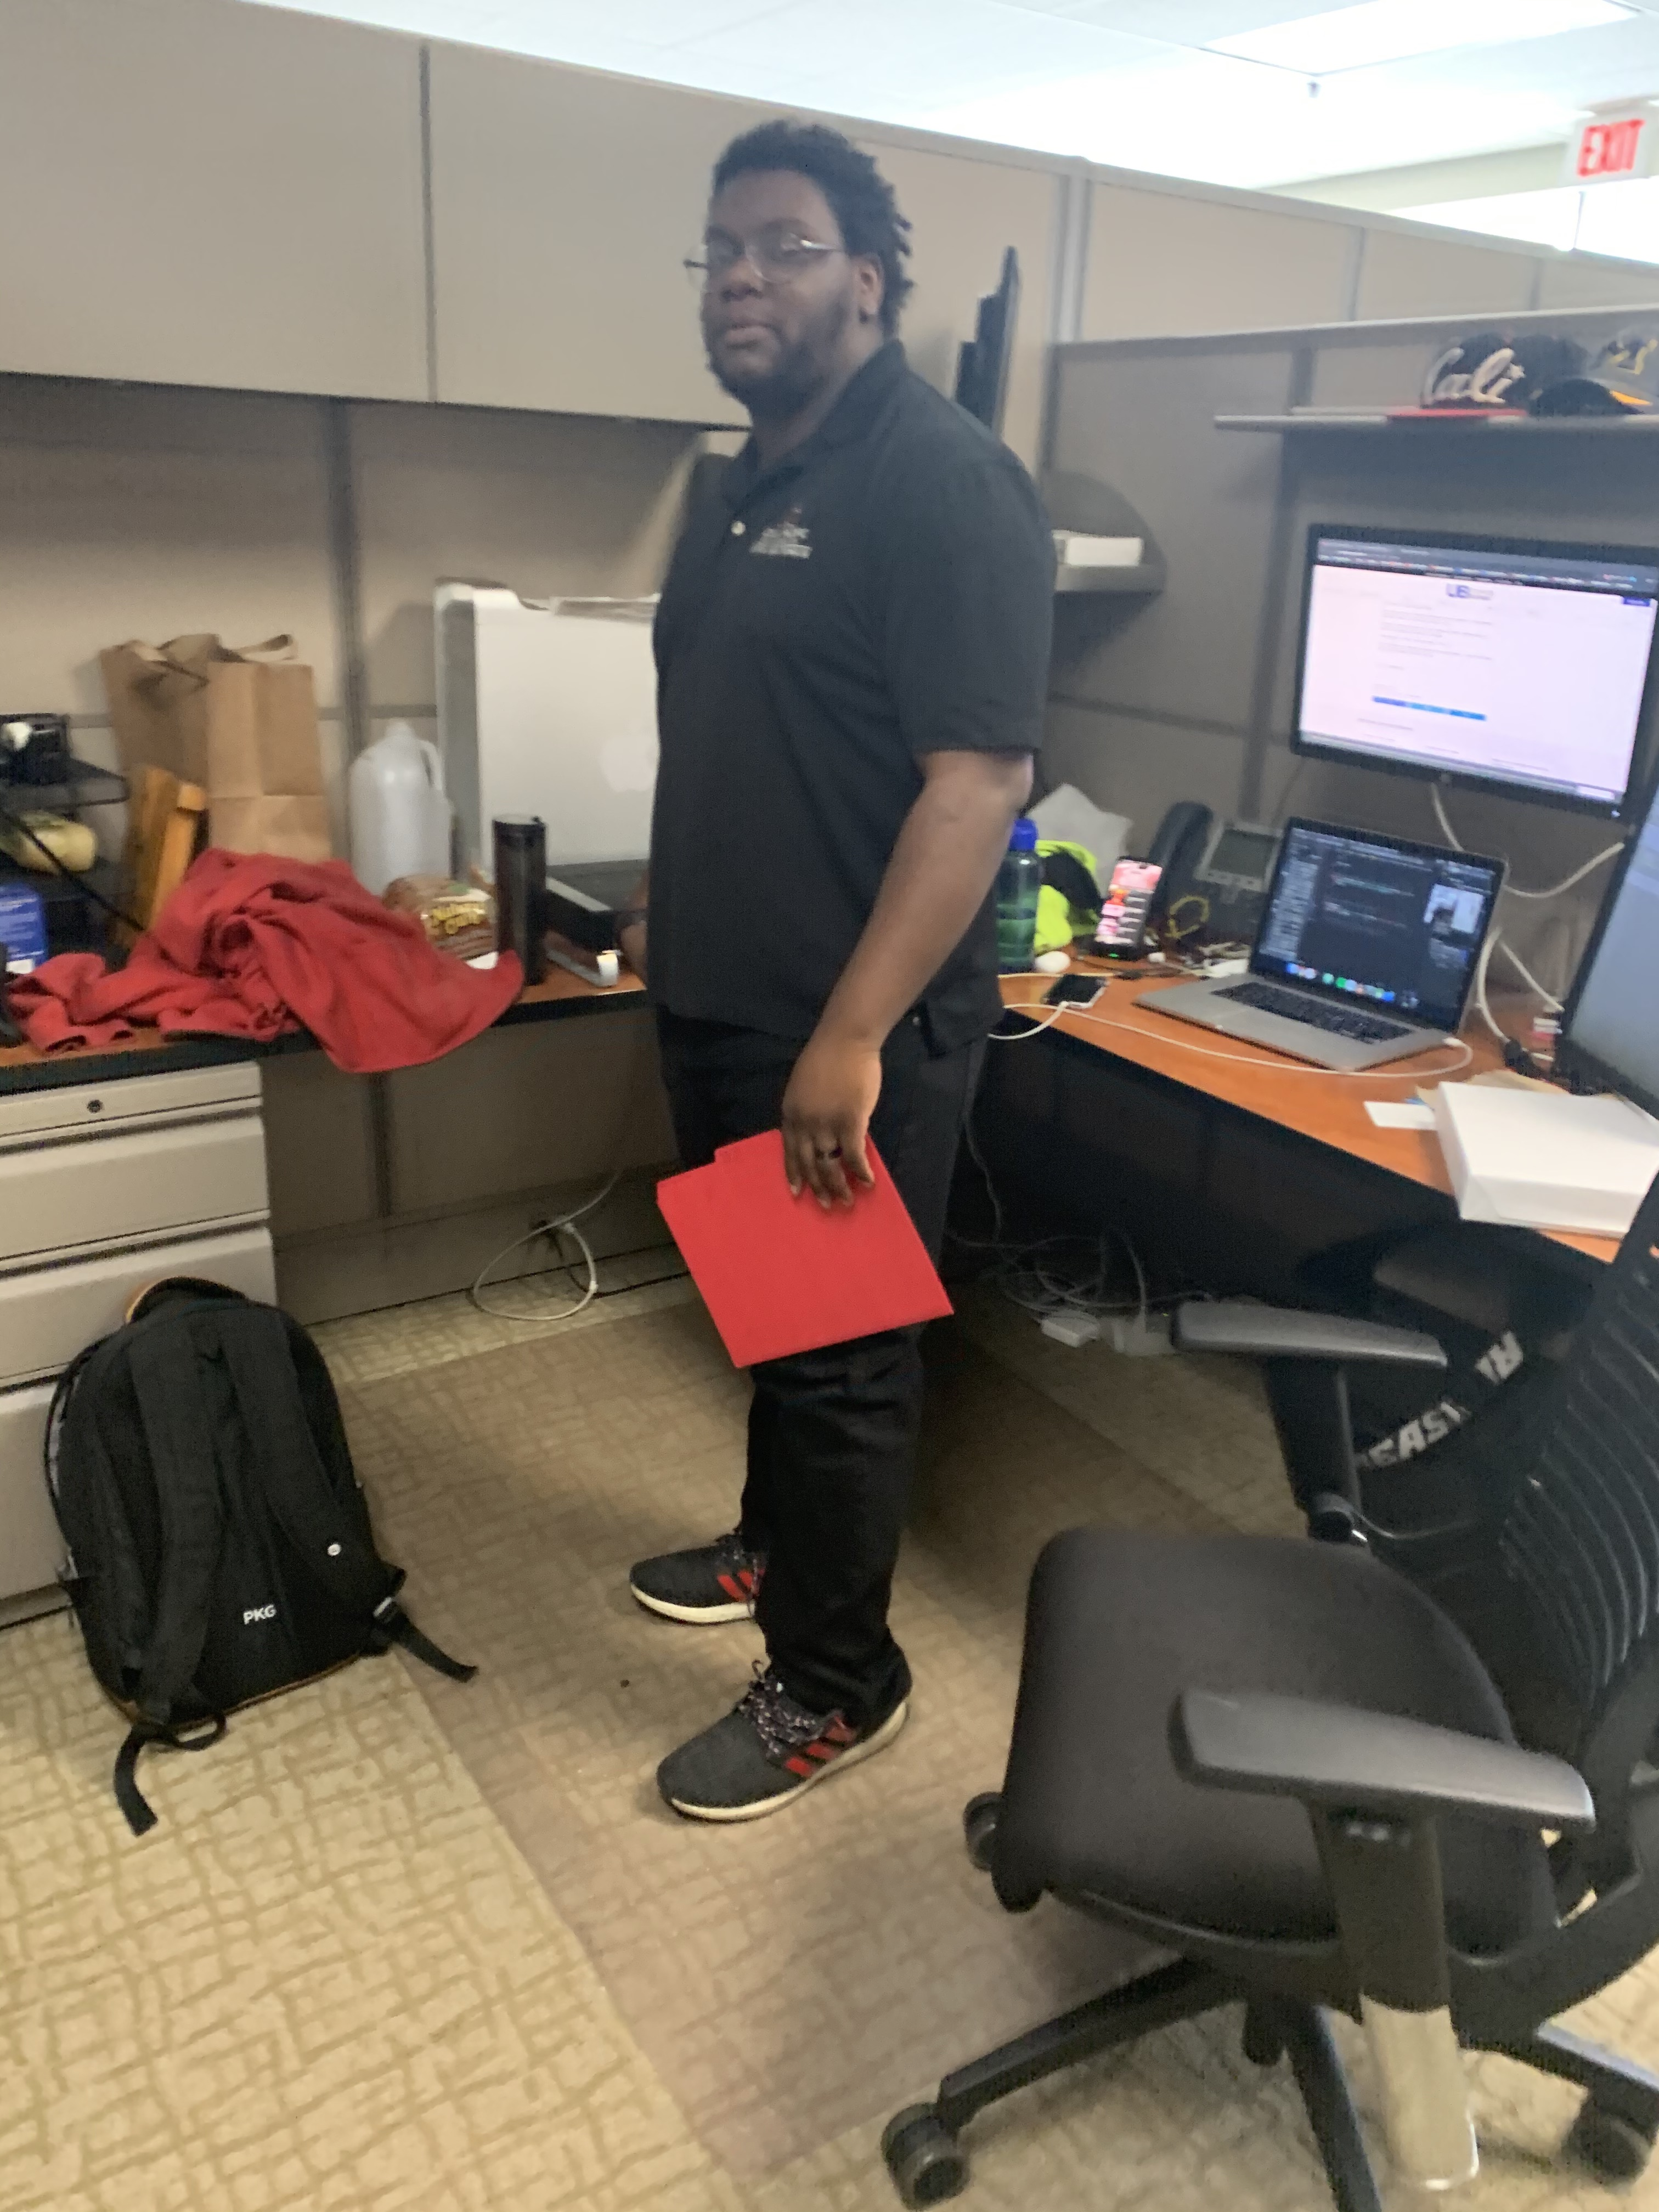red folder: (645, 1109, 974, 1371)
